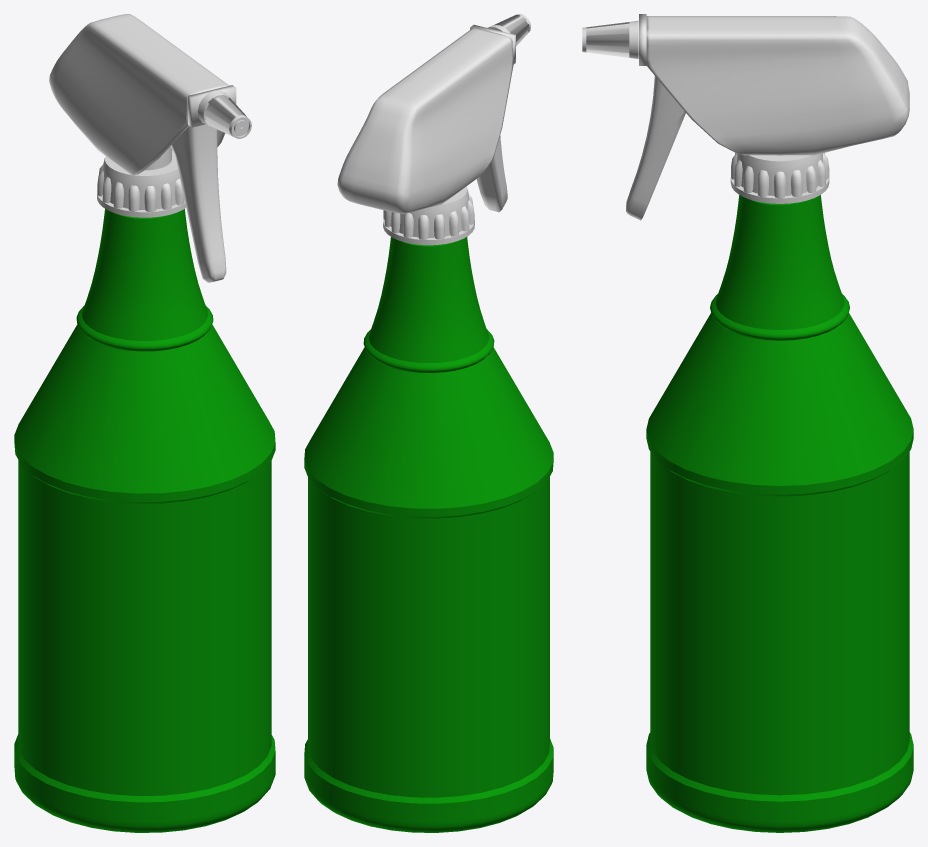
File: spray-bottle.fbx
The picture shows the model from 3 angles, left to right: view 1: azimuth 30°, elevation 25°; view 2: azimuth 150°, elevation 25°; view 3: azimuth 270°, elevation 25°; orthographic projection. The views are drawn at different scales.
Visible parts, largest first — view 1: bottle, head, handle, mount, nozzle; view 2: bottle, head, mount, handle, nozzle; view 3: bottle, head, mount, handle, nozzle.
Part boxes in pixels (left/top/right/bottom): bottle: left=14, top=209, right=275, bottom=832; head: left=49, top=14, right=228, bottom=175; handle: left=170, top=124, right=226, bottom=282; mount: left=97, top=146, right=185, bottom=217; nozzle: left=188, top=85, right=251, bottom=138; bottle: left=304, top=237, right=553, bottom=832; head: left=337, top=28, right=513, bottom=213; mount: left=383, top=186, right=474, bottom=245; handle: left=476, top=135, right=507, bottom=212; nozzle: left=470, top=14, right=530, bottom=64; bottle: left=646, top=195, right=913, bottom=832; head: left=646, top=16, right=909, bottom=155; mount: left=730, top=152, right=829, bottom=203; handle: left=626, top=76, right=685, bottom=220; nozzle: left=582, top=14, right=646, bottom=65.
Size of the model in its own units: 0.5296 by 1.66 by 0.6565.
